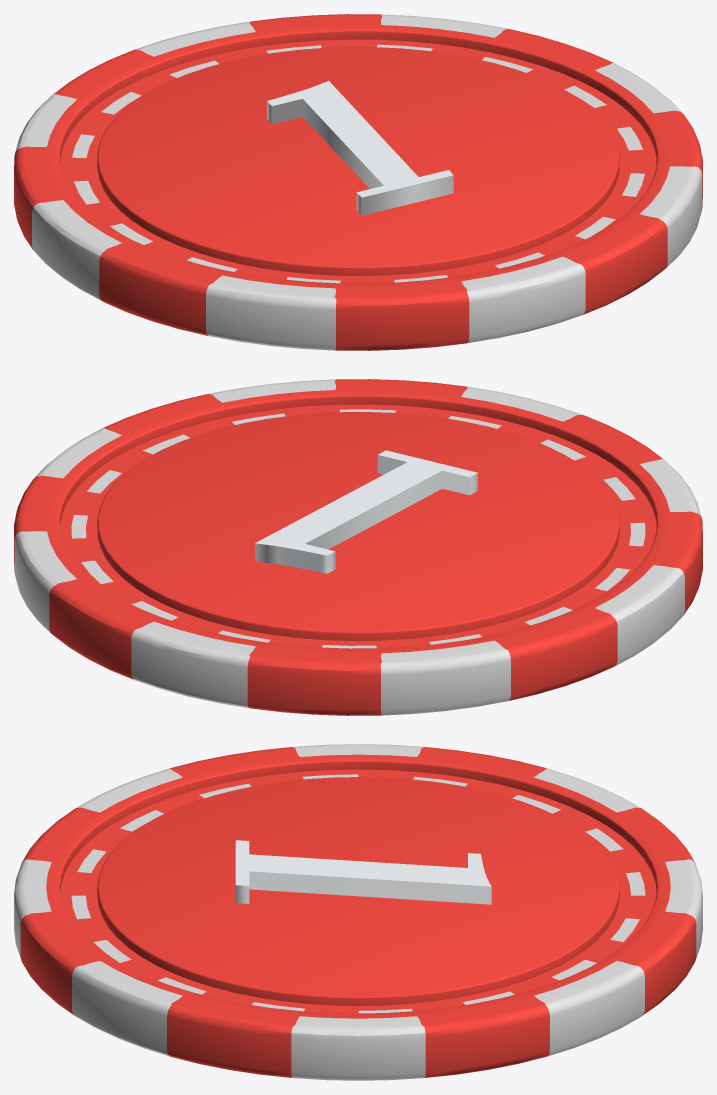
Rendered from 1_coin.glb.
3 renders of one model, top to bottom at view 1: azimuth 30°, elevation 25°; view 2: azimuth 150°, elevation 25°; view 3: azimuth 270°, elevation 25°, orthographic.
Parts seen in each view (by area): view 1: Chip.008, Text.001; view 2: Chip.008, Text.001; view 3: Chip.008, Text.001.
Part boxes in pixels (left/top/right/bottom): Chip.008: left=14, top=14, right=702, bottom=350; Text.001: left=267, top=81, right=453, bottom=215; Chip.008: left=14, top=379, right=702, bottom=715; Text.001: left=255, top=450, right=477, bottom=573; Chip.008: left=14, top=744, right=702, bottom=1080; Text.001: left=235, top=840, right=491, bottom=904.
Size of the model in its own units: 5.28 by 0.6688 by 5.28.
